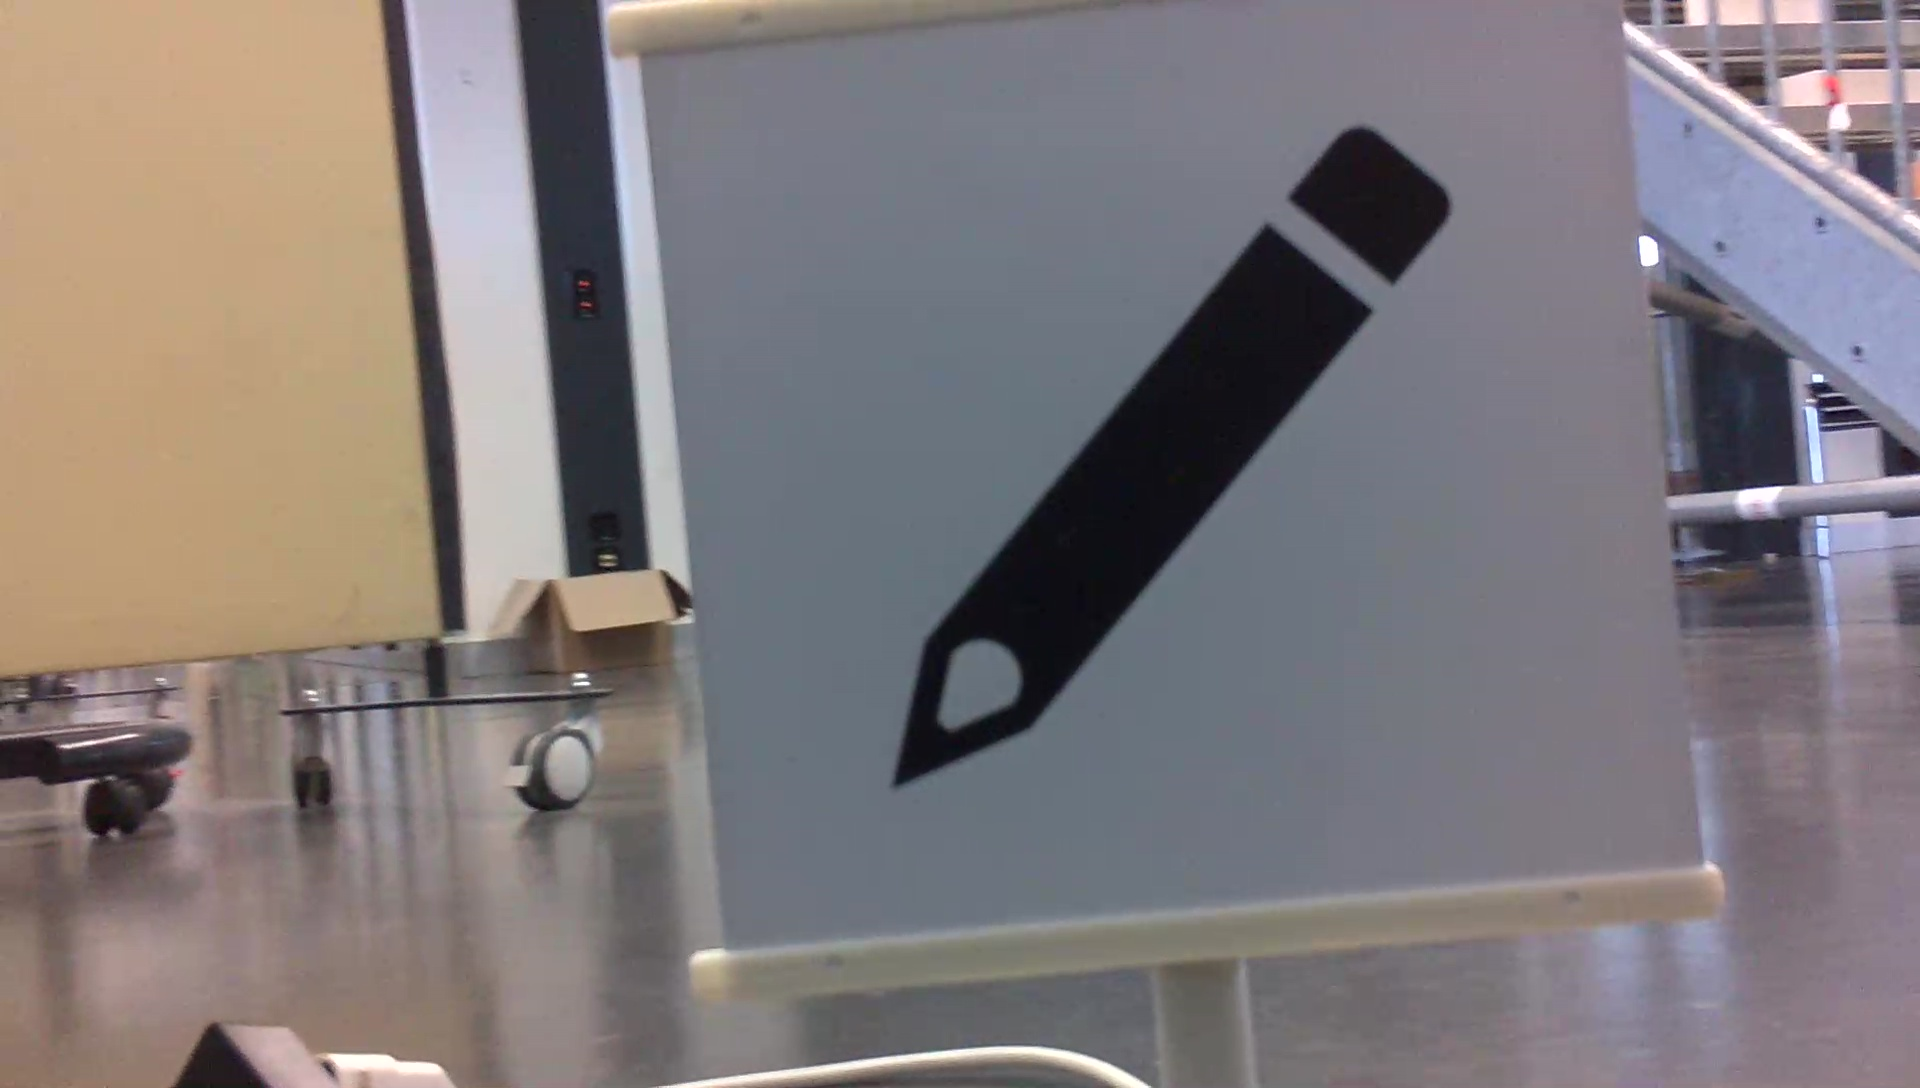pencil: (858, 106, 1472, 807)
